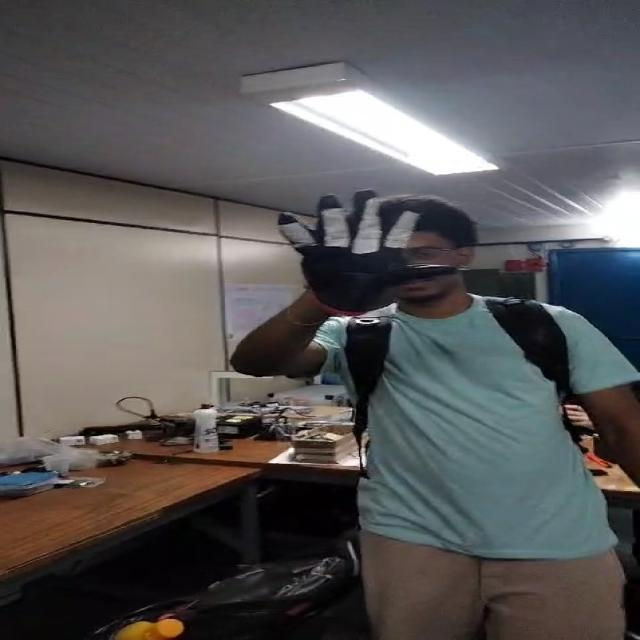Gloves: (268, 184, 455, 308)
